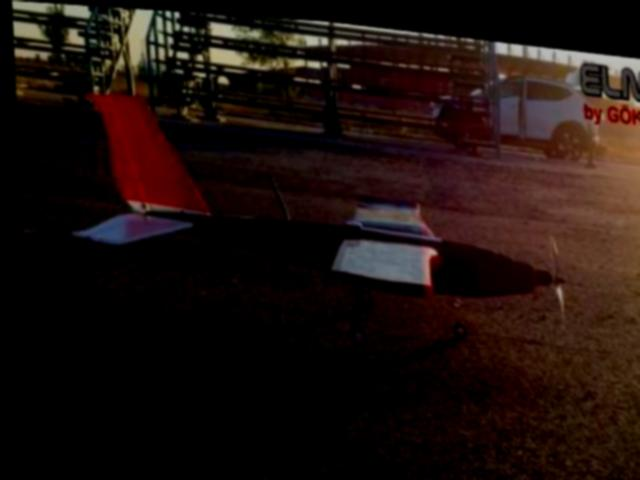uav: (50, 83, 579, 365)
